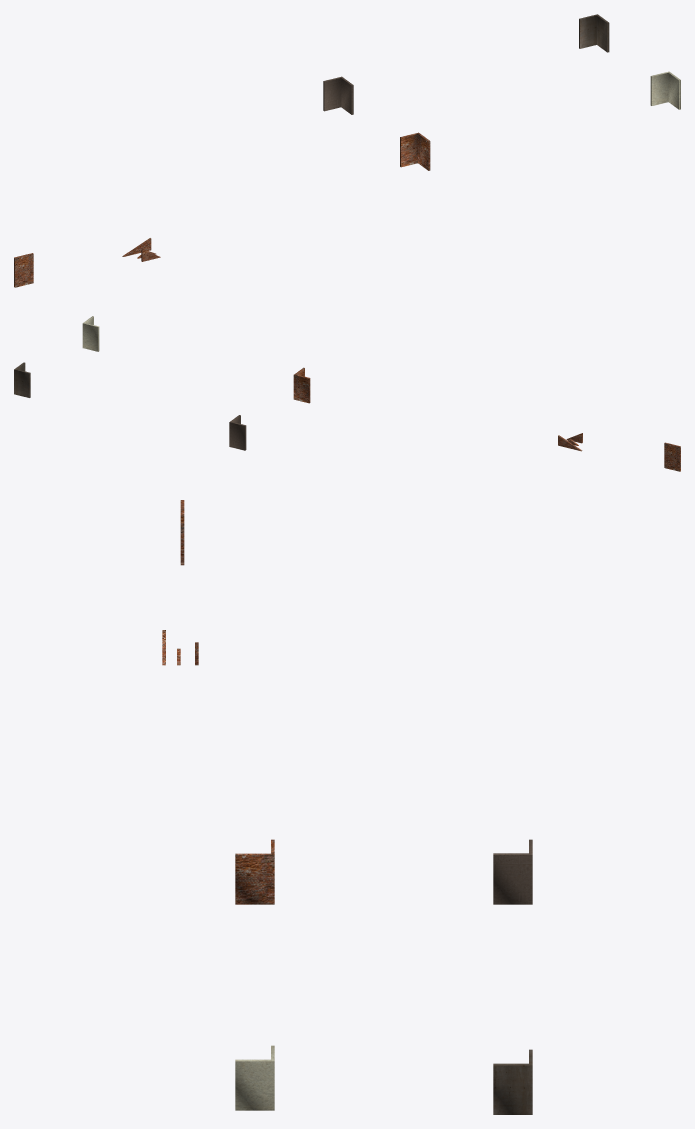
The picture shows the model from 3 angles, top to bottom: view 1: azimuth 30°, elevation 25°; view 2: azimuth 150°, elevation 25°; view 3: azimuth 270°, elevation 25°; orthographic projection. The views are drawn at different scales.
Parts seen in each view (by area): view 1: wall corner 2x2.002, wall corner 2x2.001, wall corner 2x2.003, wall corner 2x2.007, wall; view 2: wall corner 2x2.001, wall corner 2x2.003, wall corner 2x2.007, wall corner 2x2.002, wall; view 3: wall corner 2x2.001, wall corner 2x2.002, wall corner 2x2.003, wall corner 2x2.007.
Boxes of the visible parts, left/top/right/bottom form: wall corner 2x2.002: left=579, top=14, right=609, bottom=52; wall corner 2x2.001: left=323, top=76, right=353, bottom=114; wall corner 2x2.003: left=650, top=71, right=680, bottom=109; wall corner 2x2.007: left=400, top=132, right=430, bottom=170; wall: left=14, top=253, right=33, bottom=287; wall corner 2x2.001: left=229, top=415, right=246, bottom=450; wall corner 2x2.003: left=82, top=316, right=99, bottom=351; wall corner 2x2.007: left=293, top=367, right=310, bottom=403; wall corner 2x2.002: left=14, top=362, right=30, bottom=397; wall: left=664, top=442, right=680, bottom=471; wall corner 2x2.001: left=493, top=839, right=532, bottom=904; wall corner 2x2.002: left=493, top=1049, right=532, bottom=1114; wall corner 2x2.003: left=235, top=1045, right=274, bottom=1110; wall corner 2x2.007: left=235, top=839, right=274, bottom=904.
Size of the model in its own units: 7329 by 300 by 2030.
